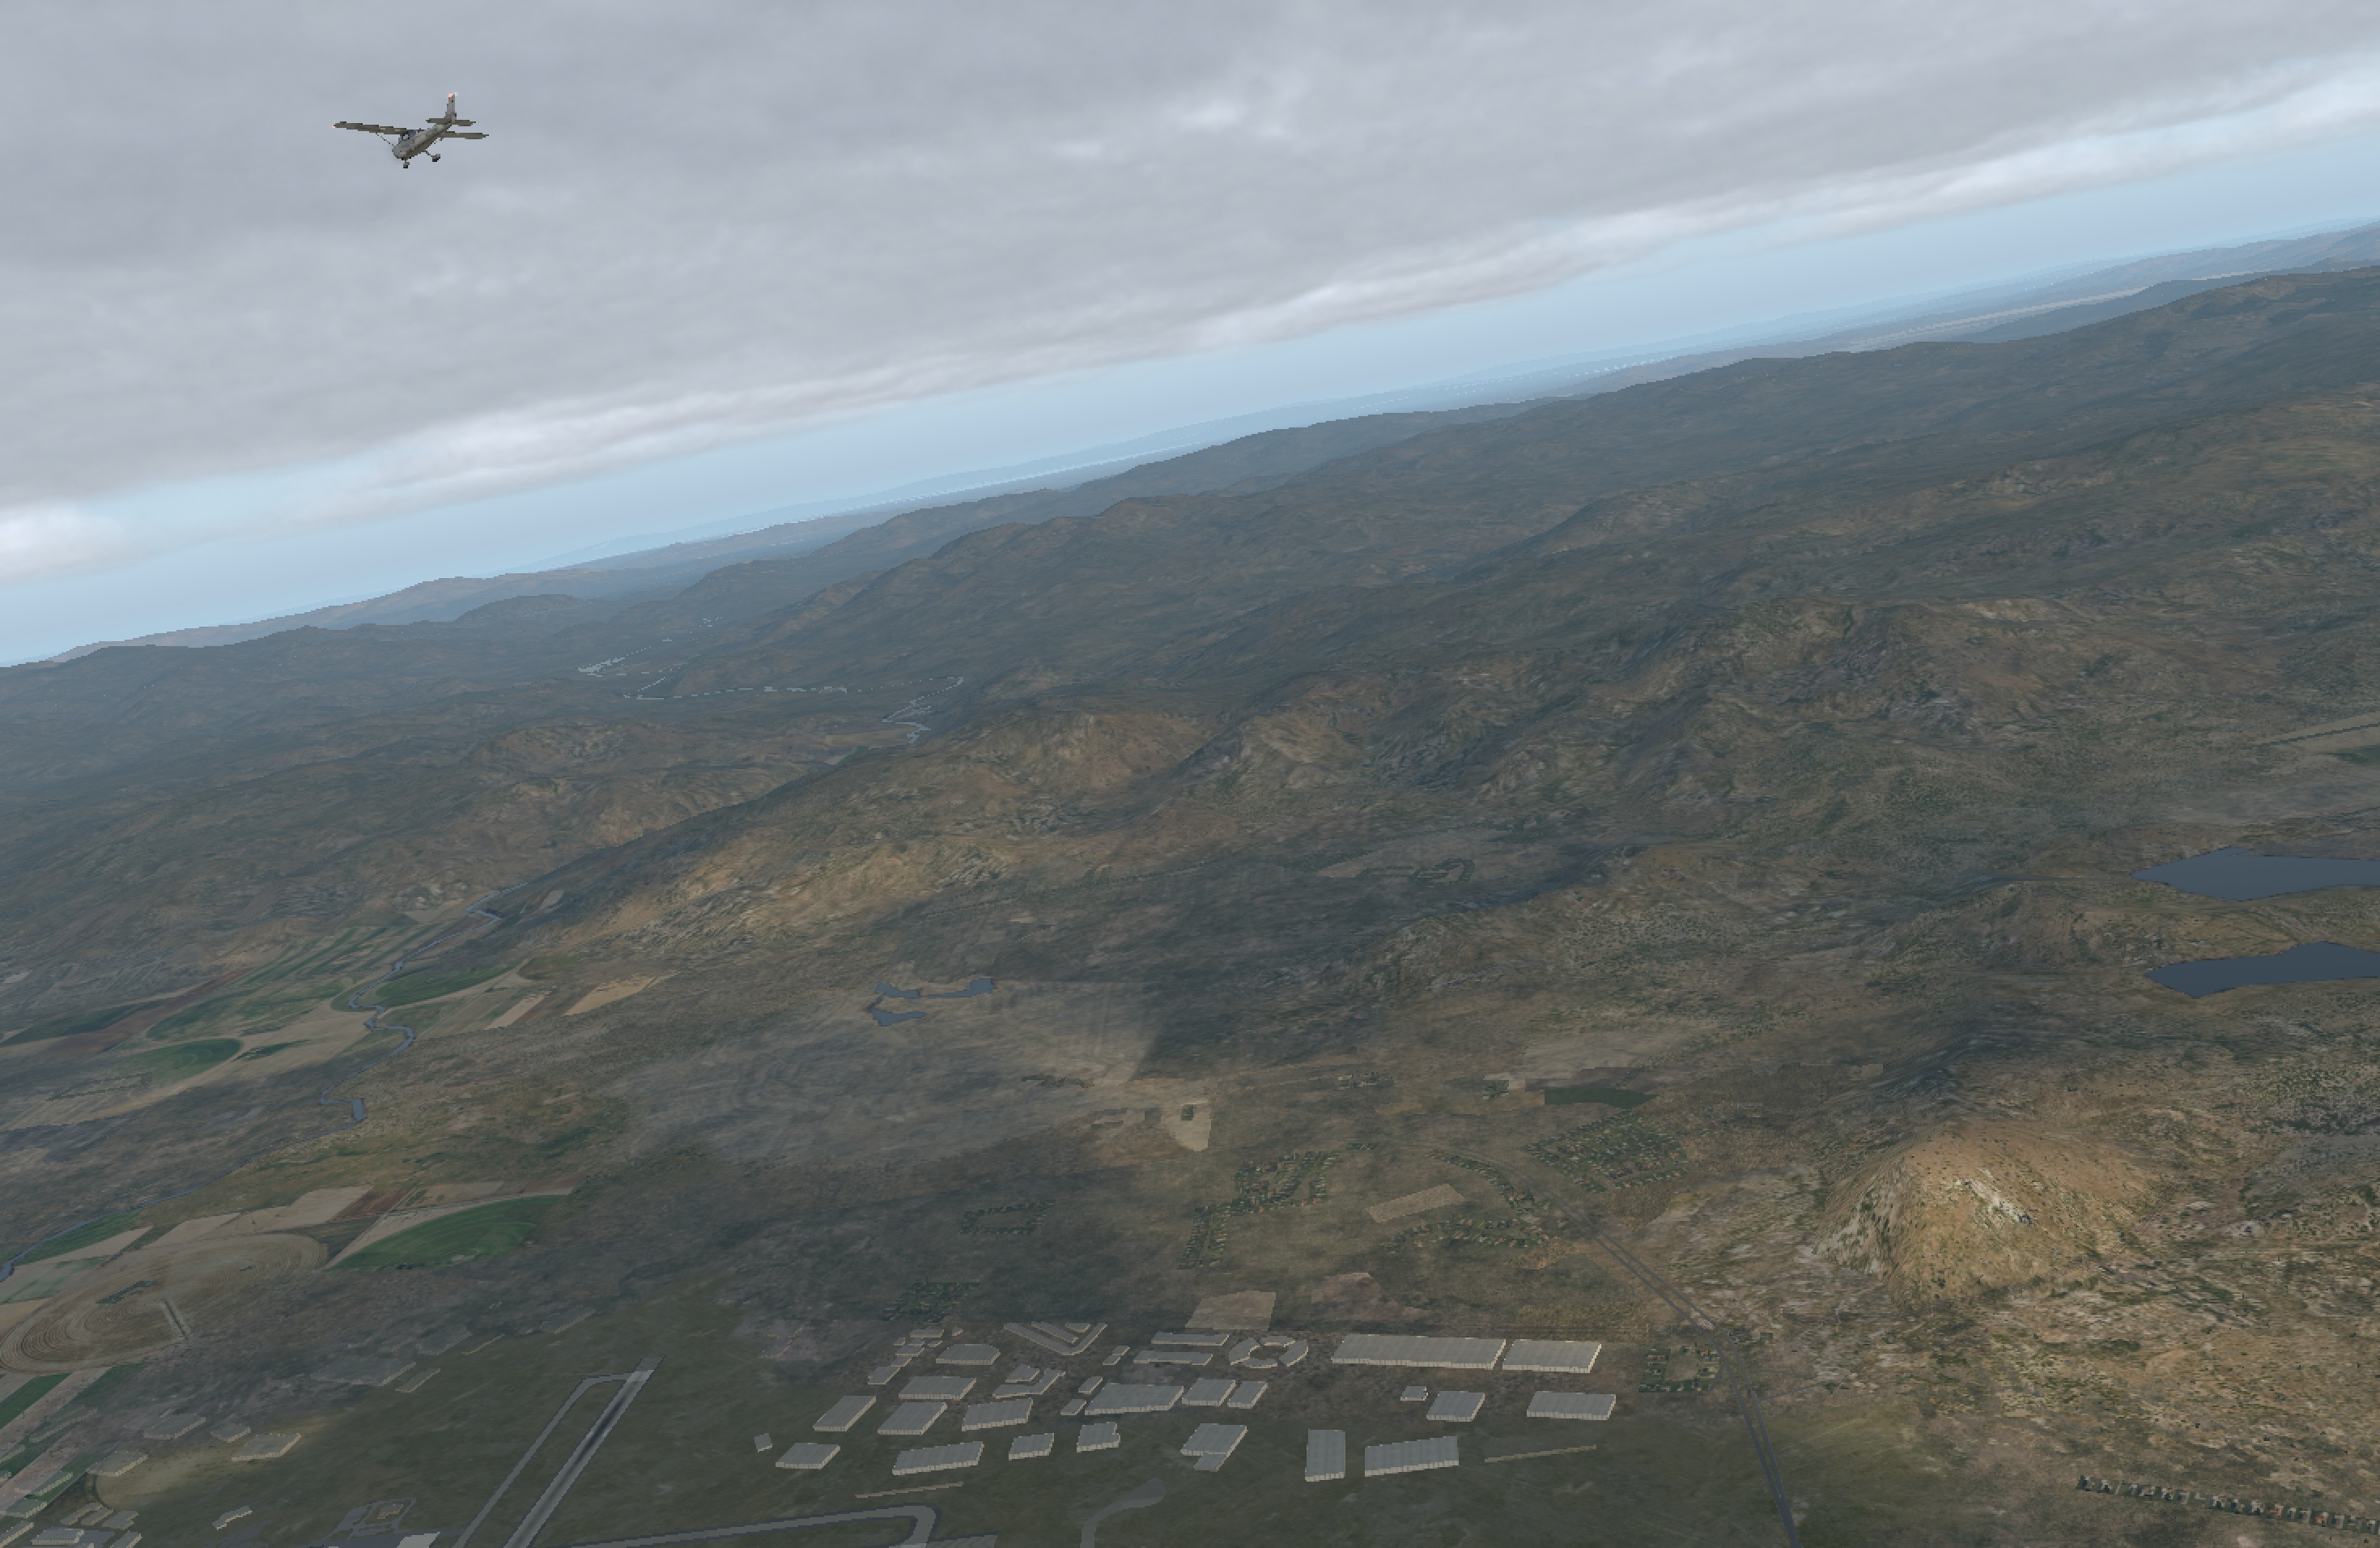aircraft: (361, 121, 465, 161)
